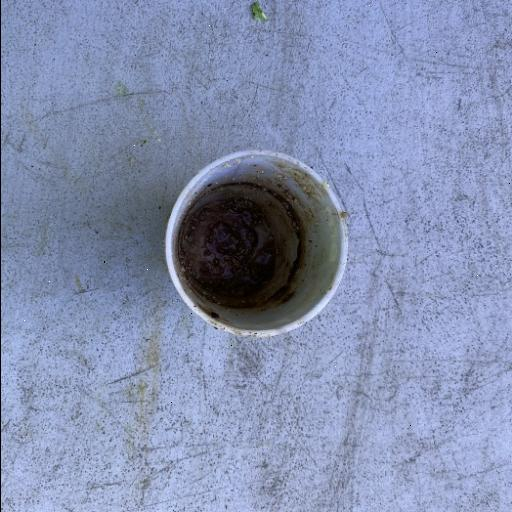Plastic: (162, 148, 348, 338)
